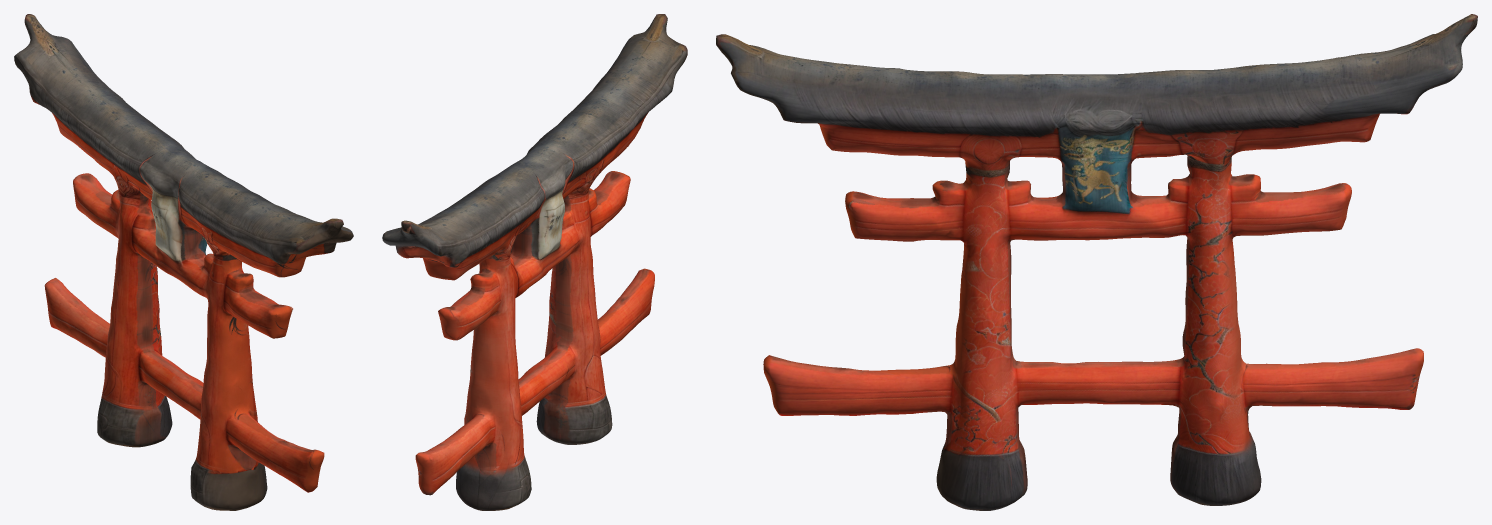
The model's file is Japanese Gate.glb.
The picture shows the model from 3 angles, left to right: view 1: azimuth 30°, elevation 25°; view 2: azimuth 150°, elevation 25°; view 3: azimuth 270°, elevation 25°; orthographic projection. The views are drawn at different scales.
Bounding box in the file's own units: 0.1808 × 0.8215 × 1.2.
Materials: 1 (1 with a texture image).
